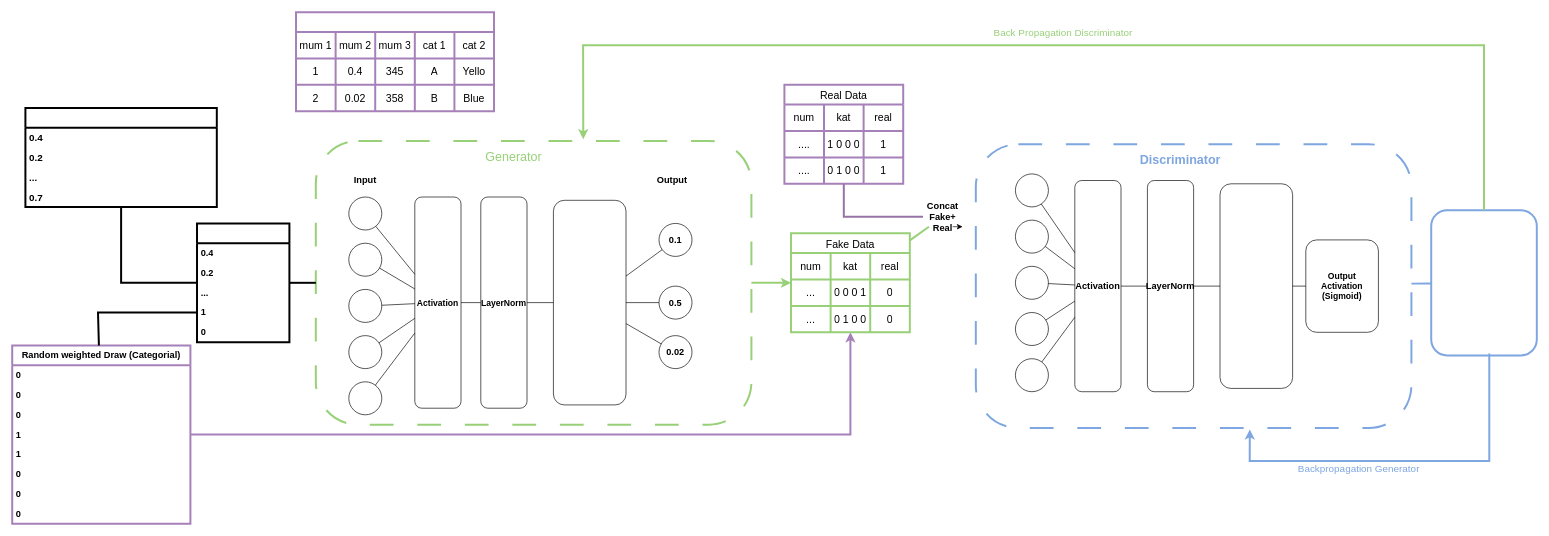
Some shapes in this 1549 by 536 pixel diagram are drawn without their labels. Each missing label, with the box of its shape:
Input Vector: (196, 222, 290, 343)
Loss Function: (1430, 209, 1537, 356)
Next hidden layers + Activation + LayerNorm: (553, 200, 626, 405)
Next hidden layers + Activation + LazyBatchNorm: (1219, 183, 1293, 388)
Random Vector N ~ (0,1) z.B. 128 dim: (24, 107, 217, 208)
Raw Data: (295, 11, 495, 112)
